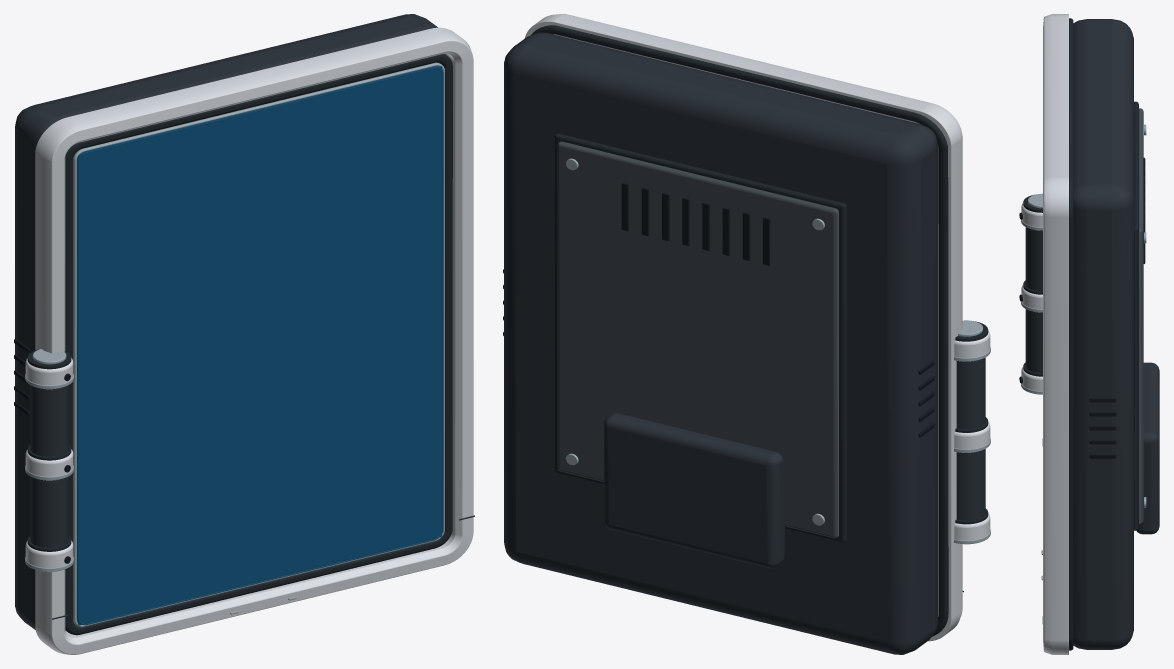
File: right.glb
3 views of the same model, side by side, from view 1: azimuth 30°, elevation 25°; view 2: azimuth 150°, elevation 25°; view 3: azimuth 270°, elevation 25° (orthographic). The views are drawn at different scales.
Visible parts, largest first — view 1: Right / inset anti-glare display.001, Right / sectioned polished structural bezel.001, Right / graphite back shell.001, Right / dark recessed gasket.001, Right / fixed hinge / Link / dark hinge barrel.001, Right / satin inner screen reveal.001, Right / polished glass edge.001, Right / fixed hinge / Link / machined hinge collar.004, Right / fixed hinge / Link / machined hinge collar.005, Right / fixed hinge / Link / machined hinge collar.003; view 2: Right / graphite back shell.001, Right / rear service cassette.001, Right / rear mounting receptacle.001, Right / sectioned polished structural bezel.001, Right / case seam.001, Right / rear service seam.001, Right / fixed hinge / Link / dark hinge barrel.001; view 3: Right / graphite back shell.001, Right / sectioned polished structural bezel.001, Right / case seam.001, Right / rear mounting receptacle.001, Right / fixed hinge / Link / dark hinge barrel.001, Right / rear service seam.001, Right / rear service cassette.001, Right / fixed hinge / Link / machined hinge collar.005, Right / fixed hinge / Link / machined hinge collar.004, Right / fixed hinge / Link / machined hinge collar.003.
Boxes of the visible parts, <box> form: Right / inset anti-glare display.001: <box>77,66,441,625</box>; Right / sectioned polished structural bezel.001: <box>35,27,473,654</box>; Right / graphite back shell.001: <box>15,14,439,629</box>; Right / dark recessed gasket.001: <box>65,54,452,635</box>; Right / fixed hinge / Link / dark hinge barrel.001: <box>30,385,68,547</box>; Right / satin inner screen reveal.001: <box>73,62,444,627</box>; Right / polished glass edge.001: <box>77,67,443,625</box>; Right / fixed hinge / Link / machined hinge collar.004: <box>25,449,73,480</box>; Right / fixed hinge / Link / machined hinge collar.005: <box>25,358,73,389</box>; Right / fixed hinge / Link / machined hinge collar.003: <box>25,540,73,571</box>; Right / graphite back shell.001: <box>504,32,937,654</box>; Right / rear service cassette.001: <box>557,141,838,538</box>; Right / rear mounting receptacle.001: <box>604,413,784,568</box>; Right / sectioned polished structural bezel.001: <box>525,14,962,641</box>; Right / case seam.001: <box>531,25,948,636</box>; Right / rear service seam.001: <box>555,133,846,542</box>; Right / fixed hinge / Link / dark hinge barrel.001: <box>956,357,985,520</box>; Right / graphite back shell.001: <box>1073,19,1133,649</box>; Right / sectioned polished structural bezel.001: <box>1043,14,1068,654</box>; Right / case seam.001: <box>1069,18,1073,650</box>; Right / rear mounting receptacle.001: <box>1136,362,1159,534</box>; Right / fixed hinge / Link / dark hinge barrel.001: <box>1025,227,1042,373</box>; Right / rear service seam.001: <box>1134,101,1138,530</box>; Right / rear service cassette.001: <box>1139,108,1143,524</box>; Right / fixed hinge / Link / machined hinge collar.005: <box>1021,203,1042,230</box>; Right / fixed hinge / Link / machined hinge collar.004: <box>1021,285,1042,312</box>; Right / fixed hinge / Link / machined hinge collar.003: <box>1021,367,1042,394</box>.
Size of the model in its own units: 2.62 by 2.96 by 0.7902.
